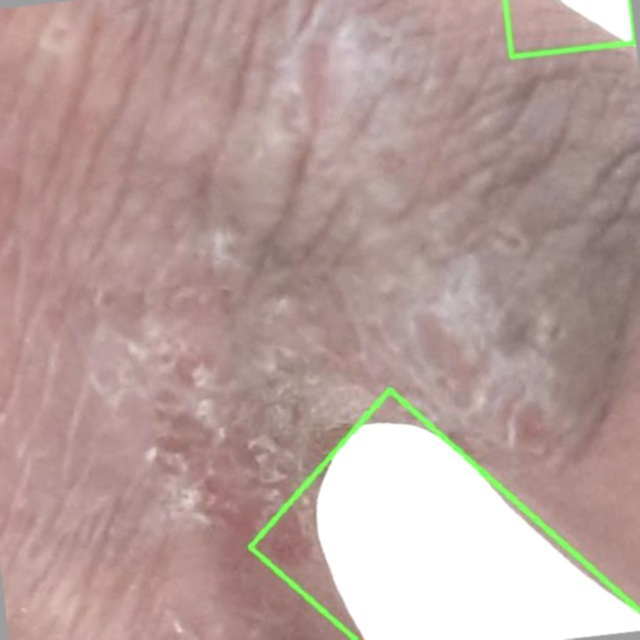Eczema: (250, 390, 639, 639)
